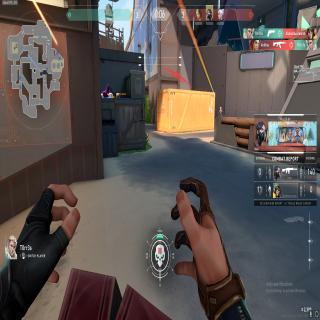ENEMY-HEAD: (220, 106, 222, 111)
